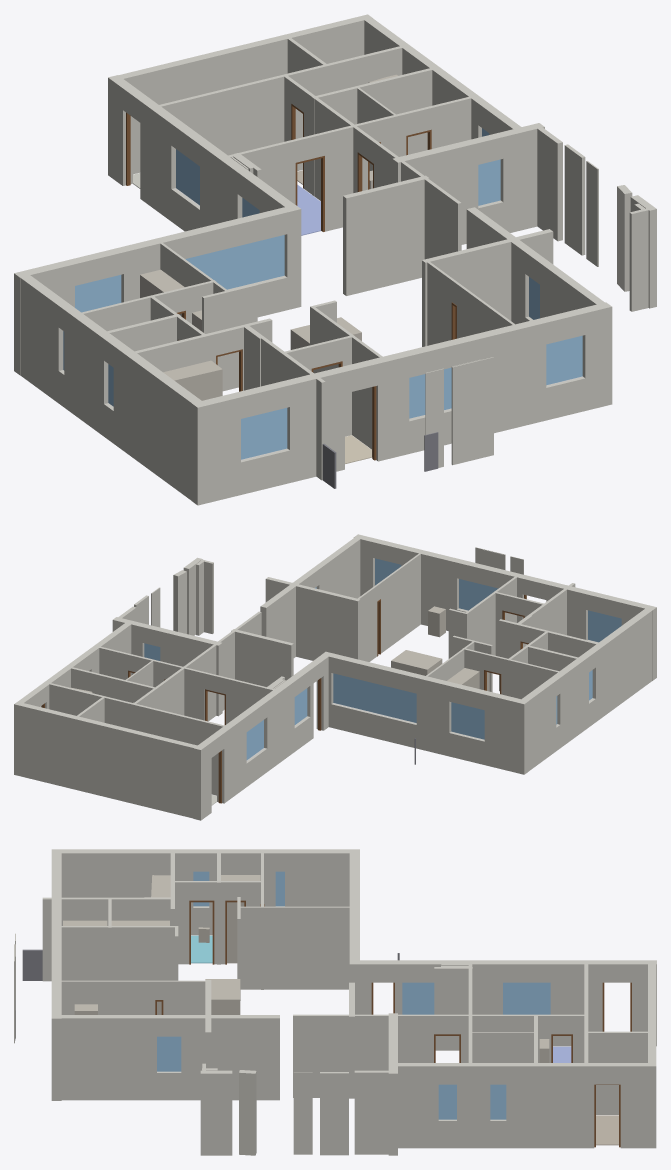
3 renders of one model, top to bottom at view 1: azimuth 30°, elevation 25°; view 2: azimuth 150°, elevation 25°; view 3: azimuth 270°, elevation 25°, orthographic. The views are drawn at different scales.
Parts seen in each view (by area): view 1: walls, window_9, window_3, window_16, furniture_4_closet, window_0, railings, window_2, furniture_2_closet, window_24, window_6, floor_2_Bed_Room; view 2: walls, window_9, window_0, furniture_19_fireplace, window_3, window_2, window_6, furniture_2_closet, furniture_12_appliance; view 3: walls, window_6, window_8, furniture_19_fireplace, furniture_3_closet, window_27, railings, floor_1_Storage, window_18, window_26, floor_9_Bath, furniture_4_closet.
Part boxes in pixels (box(x1,y1,x2,y2)): walls: box(14, 14, 656, 505); window_9: box(185, 235, 284, 289); window_3: box(241, 408, 287, 459); window_16: box(546, 335, 582, 385); furniture_4_closet: box(163, 360, 222, 400); window_0: box(75, 275, 121, 312); railings: box(322, 432, 438, 488); window_2: box(409, 367, 451, 418); furniture_2_closet: box(140, 269, 201, 331); window_24: box(478, 159, 500, 205); window_6: box(176, 149, 199, 205); floor_2_Bed_Room: box(297, 184, 320, 235); walls: box(14, 534, 656, 820); window_9: box(333, 673, 416, 722); window_0: box(451, 702, 484, 739); furniture_19_fireplace: box(391, 650, 442, 675); window_3: box(588, 610, 621, 642); window_2: box(459, 579, 498, 610); window_6: box(246, 720, 263, 759); furniture_2_closet: box(447, 668, 489, 691); furniture_12_appliance: box(428, 606, 445, 637); walls: box(14, 849, 656, 1155); window_6: box(503, 982, 550, 1014); window_8: box(402, 982, 434, 1014); furniture_19_fireplace: box(205, 979, 240, 1014); furniture_3_closet: box(221, 875, 260, 962); window_27: box(157, 1036, 181, 1071); railings: box(15, 949, 399, 1040); floor_1_Storage: box(596, 1115, 618, 1145); window_18: box(438, 1084, 456, 1119); window_26: box(490, 1084, 506, 1119); floor_9_Bath: box(191, 935, 212, 963); furniture_4_closet: box(151, 875, 170, 897).
Bounding box in the file's own units: 15.85 × 2.72 × 19.18.
